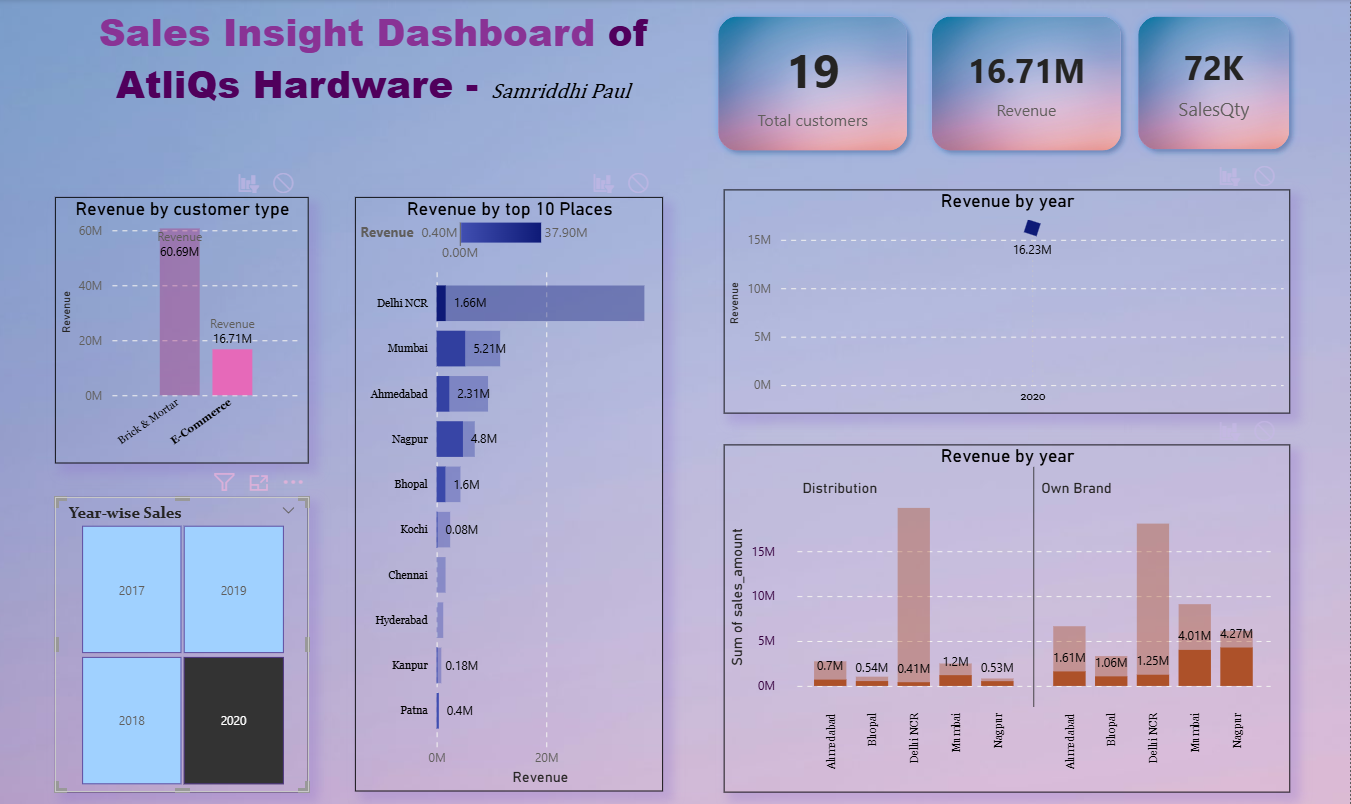

Layout of this report page (visuals, bound fields, positions):
{"tool":"powerbi","page":{"name":"Page 2","canvas":[1350,850],"ordinal":1},"visuals":[{"type":"cardVisual","fields":{"Data":["BaseMeasures.SalesQty"]},"box":[1121,28,185,167],"z":1000},{"type":"clusteredColumnChart","fields":{"Category":["sales customers.customer_type"],"Y":["BaseMeasures.Revenue"]},"box":[55.6,225.6,253.3,266.7],"z":2000},{"type":"cardVisual","fields":{"Data":["BaseMeasures.Revenue"]},"box":[915,27,223,168],"z":2001},{"type":"slicer","fields":{"Values":["sales date.year"]},"box":[55.6,525.6,253.3,285.6],"z":2002},{"type":"clusteredBarChart","title":"Revenue by top 10 Places","fields":{"Y":["BaseMeasures.Revenue"],"Category":["sales markets.markets_name","sales customers.customer_type"]},"box":[355.6,225.6,307.8,594.4],"z":2003},{"type":"lineChart","title":"Revenue by year","fields":{"Y":["BaseMeasures.Revenue"],"Category":["sales date.cy_date.Variation.Date Hierarchy.Year"]},"box":[724,217,566,224],"z":2004},{"type":"columnChart","title":"Revenue by year","fields":{"Category":["sales markets.markets_name"],"Y":["Sum(sales transactions.sales_amount)"],"Rows":["sales products.product_type"]},"box":[724,472,566,348],"z":2005},{"type":"textbox","box":[57,28,633,169],"z":2006},{"type":"cardVisual","fields":{"Data":["Sum(sales transactions.sales_amount)"]},"box":[708,27,223,168],"z":2007}]}

Visuals, with their boxes on the page's 1350x850 design canvas (x1, y1, x2, y2). These are canvas units, not pixel positions in the 1351x804 screenshot, which may show the page scaled, cropped or inside an application window:
cardVisual - BaseMeasures.SalesQty: bbox=[1121, 28, 1306, 195]
clusteredColumnChart - sales customers.customer_type x BaseMeasures.Revenue: bbox=[56, 226, 309, 492]
cardVisual - BaseMeasures.Revenue: bbox=[915, 27, 1138, 195]
slicer - sales date.year: bbox=[56, 526, 309, 811]
"Revenue by top 10 Places" clusteredBarChart: bbox=[356, 226, 663, 820]
"Revenue by year" lineChart: bbox=[724, 217, 1290, 441]
"Revenue by year" columnChart: bbox=[724, 472, 1290, 820]
textbox: bbox=[57, 28, 690, 197]
cardVisual - Sum(sales transactions.sales_amount): bbox=[708, 27, 931, 195]
